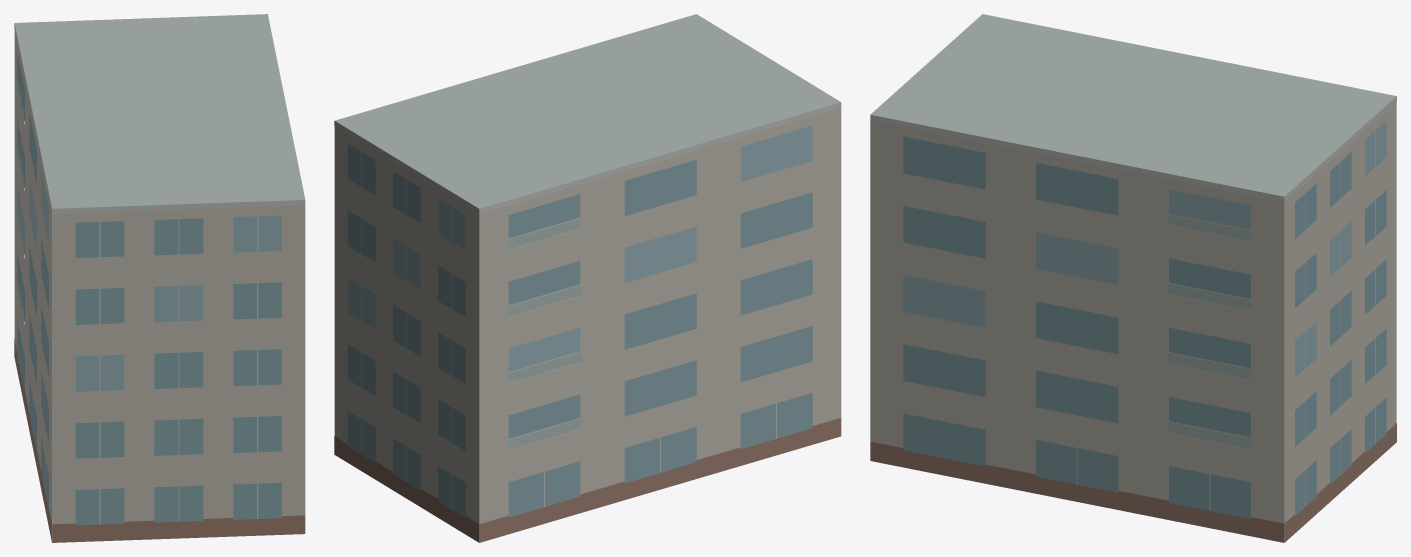
Rendered from survey-upis-32537725.glb.
3 renders of one model, left to right at view 1: azimuth 30°, elevation 25°; view 2: azimuth 150°, elevation 25°; view 3: azimuth 270°, elevation 25°, orthographic. The views are drawn at different scales.
Parts seen in each view (by area): view 1: survey-upis-32537725.tmp; view 2: survey-upis-32537725.tmp; view 3: survey-upis-32537725.tmp.
Boxes of the visible parts, x1,y1,x2,y2 form: survey-upis-32537725.tmp: (14,14,305,542); survey-upis-32537725.tmp: (334,14,841,542); survey-upis-32537725.tmp: (870,14,1396,542).
Size of the model in its own units: 17.27 by 15.25 by 21.03.
